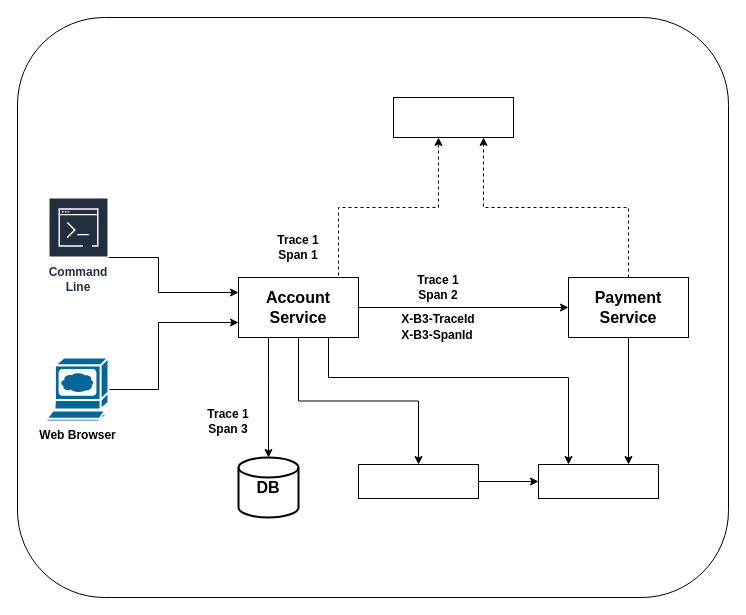
This 746x615 diagram has some shape labels left out. The shapes that lost their labels are listed below. From the top down, each one's box as (x1, y1, x2, y2) in pixels, then its label:
(392, 96, 514, 138): Zipkin Server
(358, 464, 478, 498): Vault
(538, 464, 658, 498): Consul
